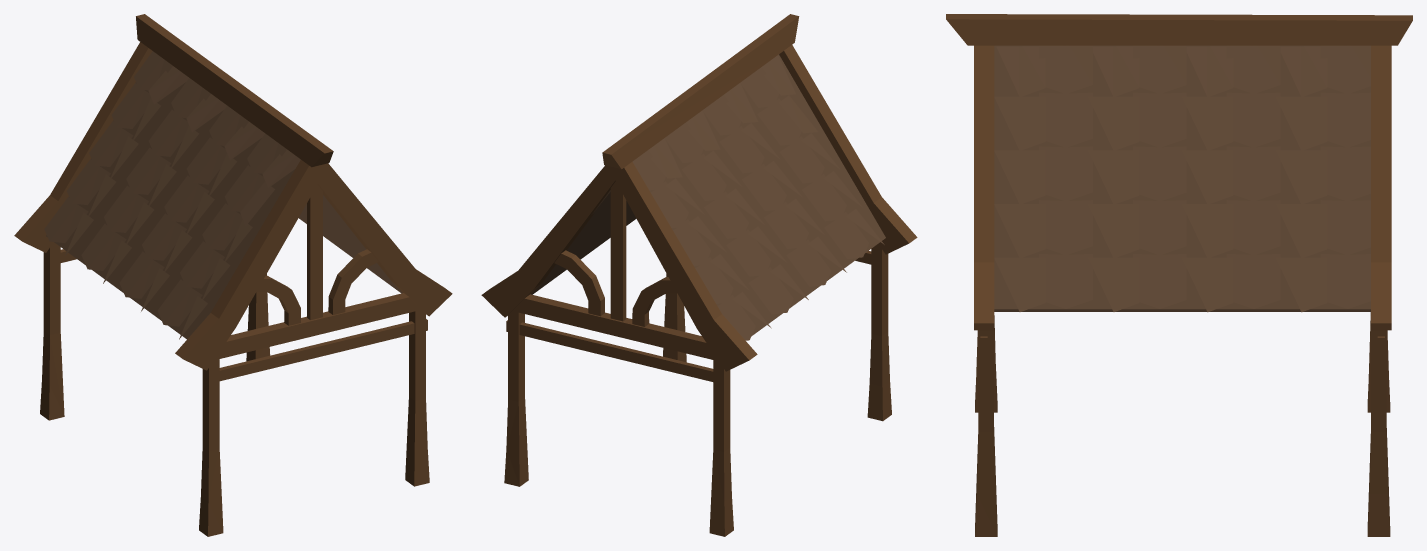
Rendered from gazebo.glb.
3 renders of one model, left to right at view 1: azimuth 30°, elevation 25°; view 2: azimuth 150°, elevation 25°; view 3: azimuth 270°, elevation 25°, orthographic. The views are drawn at different scales.
Visible parts, largest first — view 1: Gazebo; view 2: Gazebo; view 3: Gazebo.
Part boxes in pixels (box(x1,y1,x2,y2)): Gazebo: box(14, 14, 452, 536); Gazebo: box(481, 14, 917, 536); Gazebo: box(946, 14, 1412, 536).
Size of the model in its own units: 3.11 by 4.04 by 3.78.
